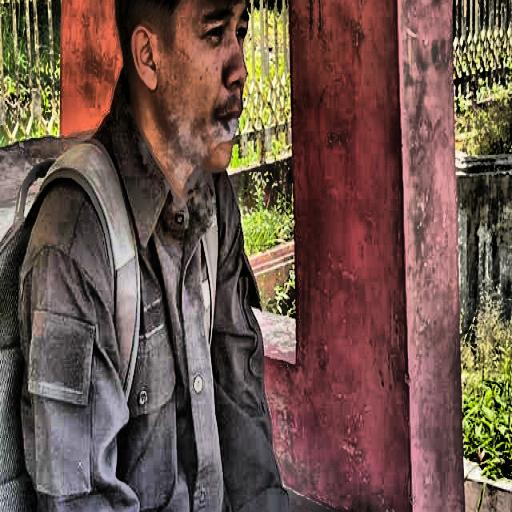Rokok: (126, 0, 249, 195)
